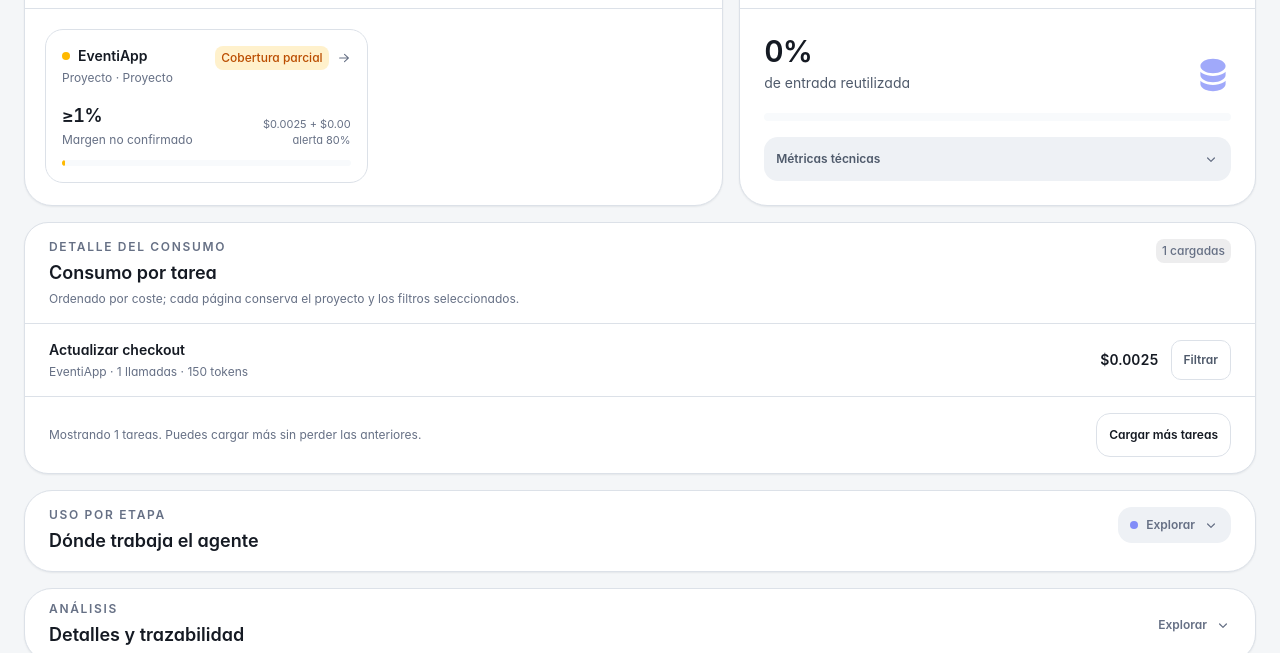
Scenario: automation costs explorer › does not present partial ledger coverage as a healthy budget or unknown cost dimensions as zero
(page scrolled)
Expected: the text "Cobertura parcial" is shown, [215,46,329,70]
Expected: the text "Margen no confirmado" is shown, [62,132,193,148]
Click the text "Detalles y trazabilidad".
click(147, 635)  # box [49,621,244,649]
(page scrolled)
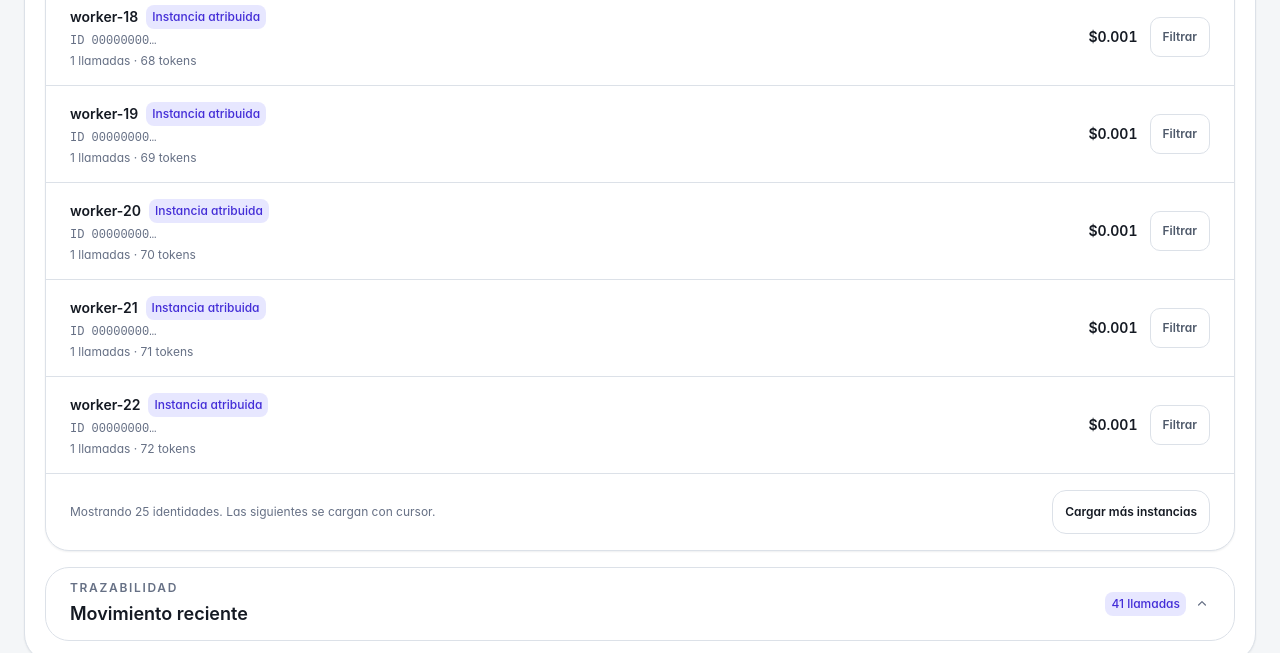
Click the heading "Movimiento reciente".
click(159, 614)  # box [70,600,248,628]
(page scrolled)
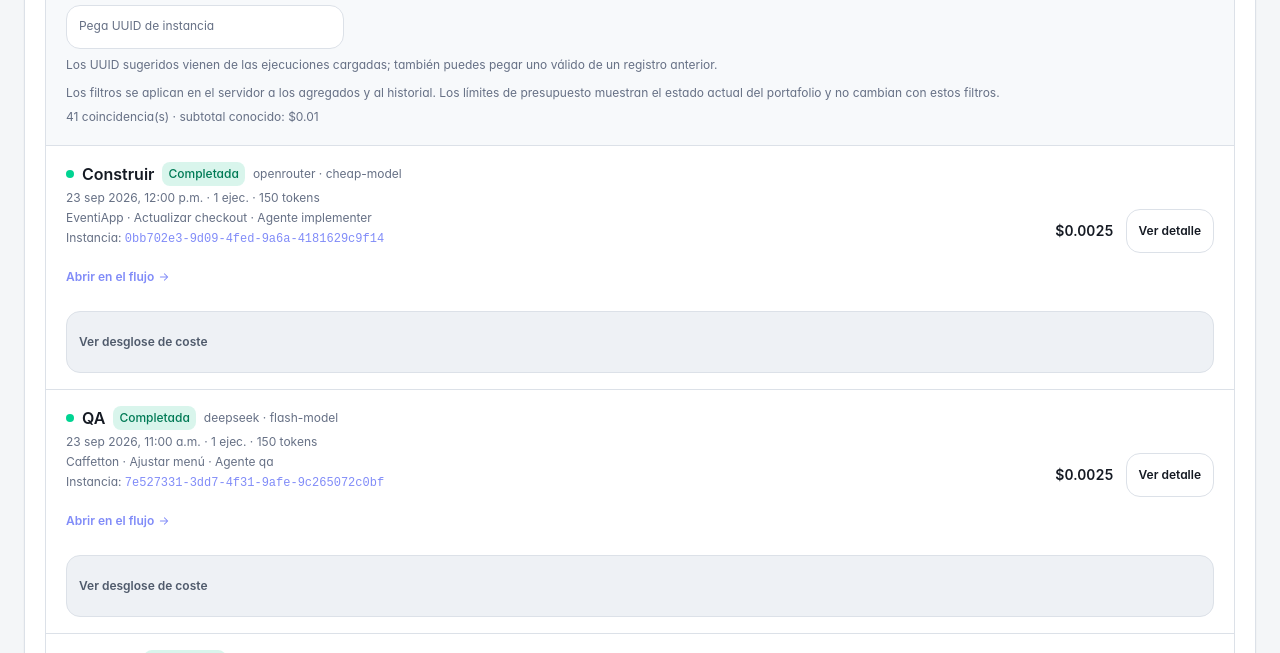
Click the heading "Ver desglose de coste" below "Construir".
click(143, 342)  # box [79,334,208,349]
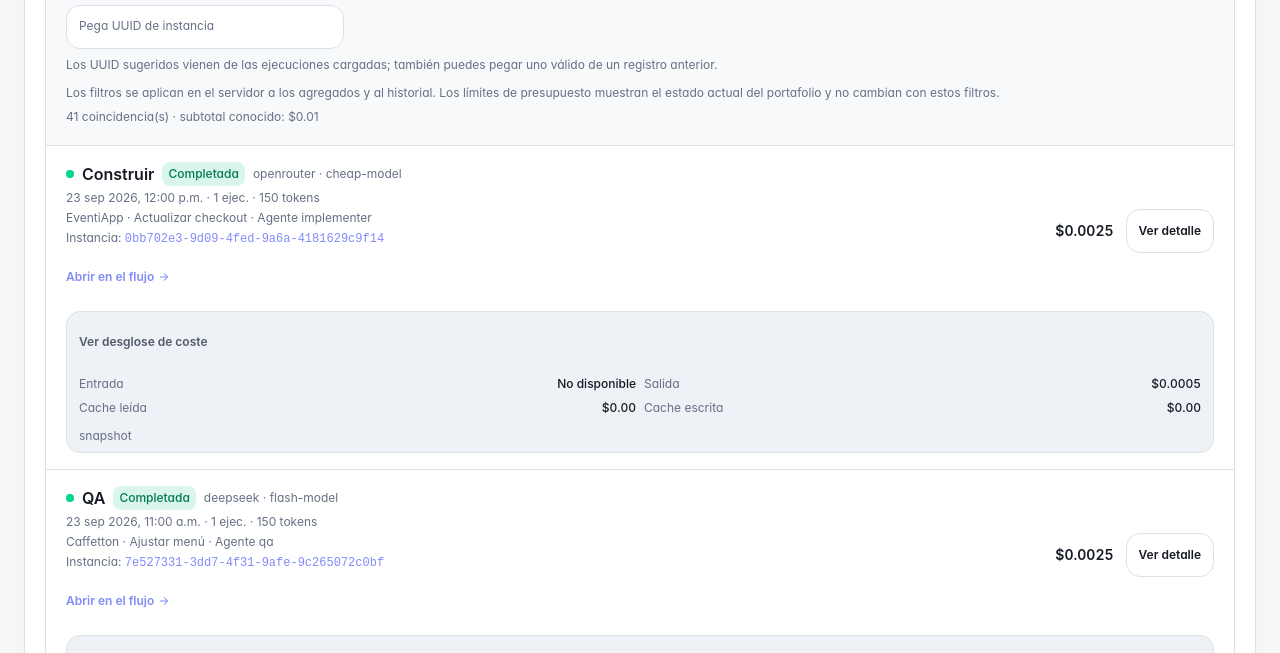
Result: the text "No disponible" is shown at [557,376,636,392]
